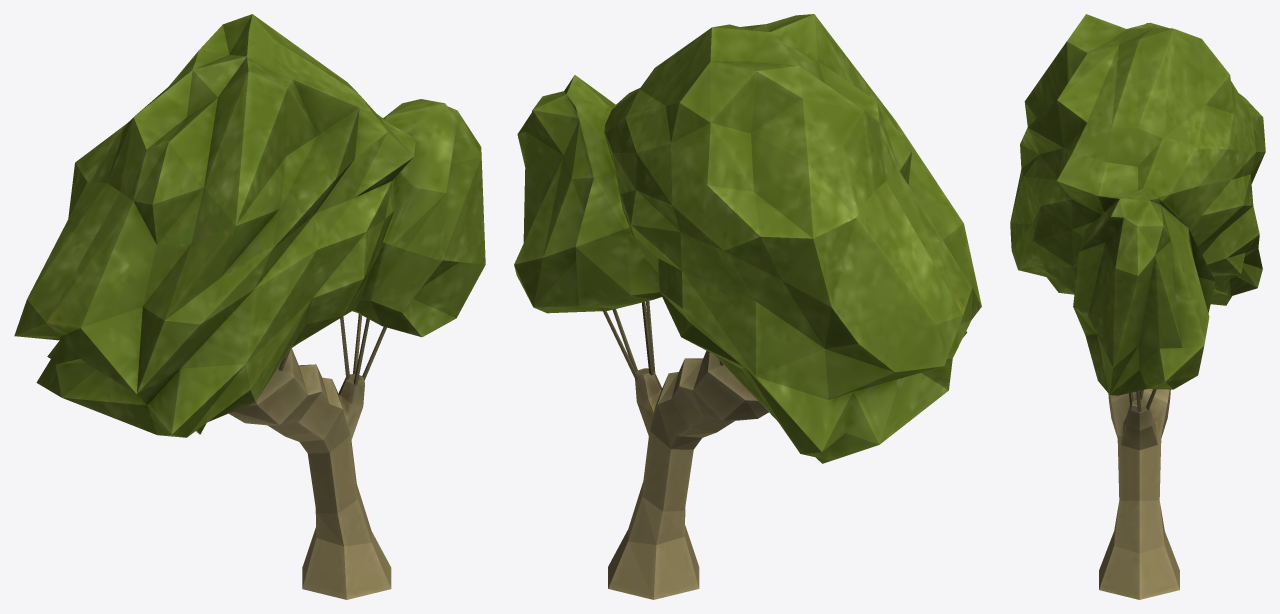
File: willow.glb
3 renders of one model, left to right at view 1: azimuth 30°, elevation 25°; view 2: azimuth 150°, elevation 25°; view 3: azimuth 270°, elevation 25°, orthographic. The views are drawn at different scales.
Parts seen in each view (by area): view 1: PollardWillowTree_mesh; view 2: PollardWillowTree_mesh; view 3: PollardWillowTree_mesh.
Part boxes in pixels (<box>): PollardWillowTree_mesh: <box>14,14,485,599</box>; PollardWillowTree_mesh: <box>514,14,981,599</box>; PollardWillowTree_mesh: <box>1010,14,1265,599</box>.
Size of the model in its own units: 9.97 by 12.27 by 5.49.
Materials: 1 (1 with a texture image).
